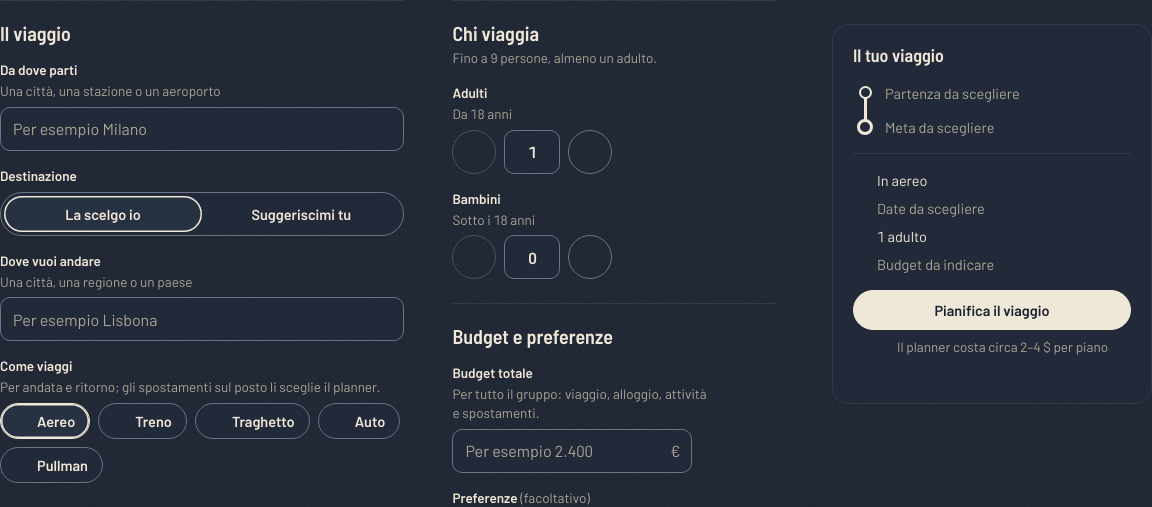
RequestForm › asks each child's age and keeps the count within nine travellers
The image size is (1152, 507).
Step 1. Click the button named "Aggiungi un bambino" → (590, 258), box x1=568 y1=236 x2=612 y2=280
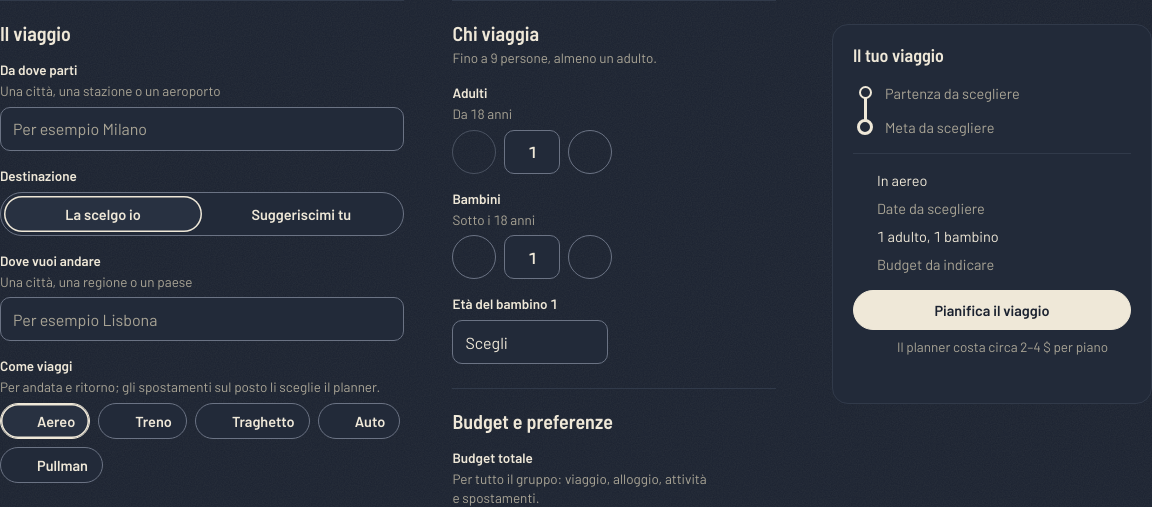
Step 2. Click the button named "Aggiungi un bambino" → (590, 258), box x1=568 y1=236 x2=612 y2=280
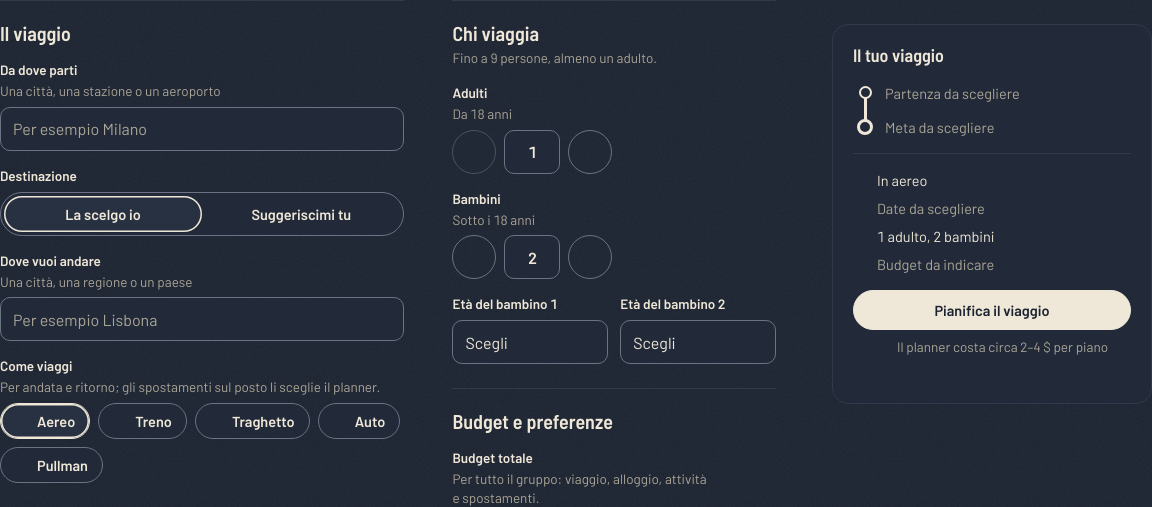
Check: the dropdown labelled "Età del bambino 2" is shown, box x1=620 y1=320 x2=776 y2=364
Step 3. Replace the text in the number field labelled "Adulti" with "12" → (532, 152), box x1=504 y1=130 x2=560 y2=174
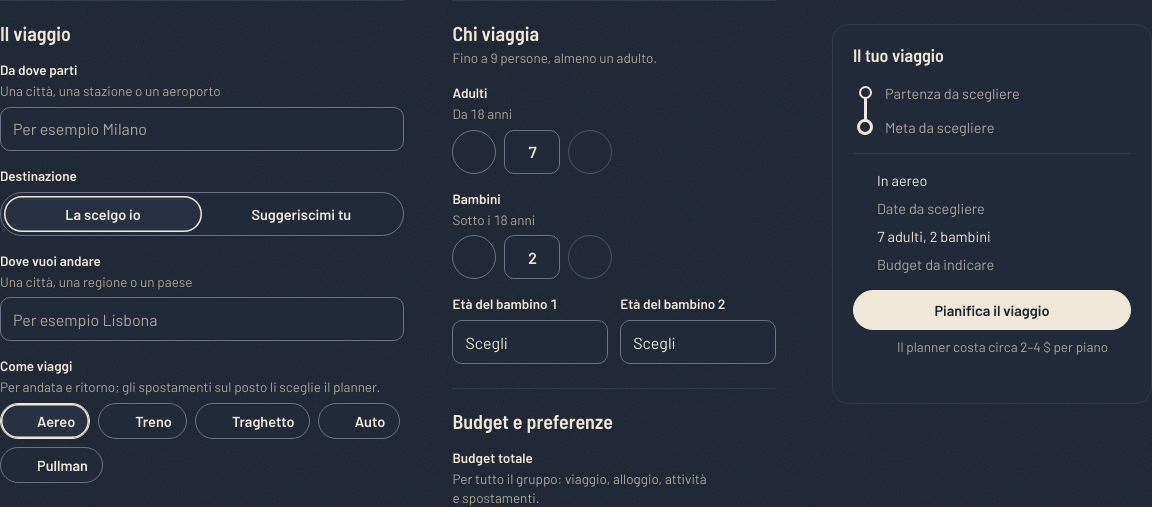
Check: the number field labelled "Adulti" holds "7", box x1=504 y1=130 x2=560 y2=174
Check: the button named "Aggiungi un bambino" is disabled, box x1=568 y1=236 x2=612 y2=280
Step 4. Click the button "Pianifica il viaggio" → (992, 310), box x1=853 y1=290 x2=1131 y2=330
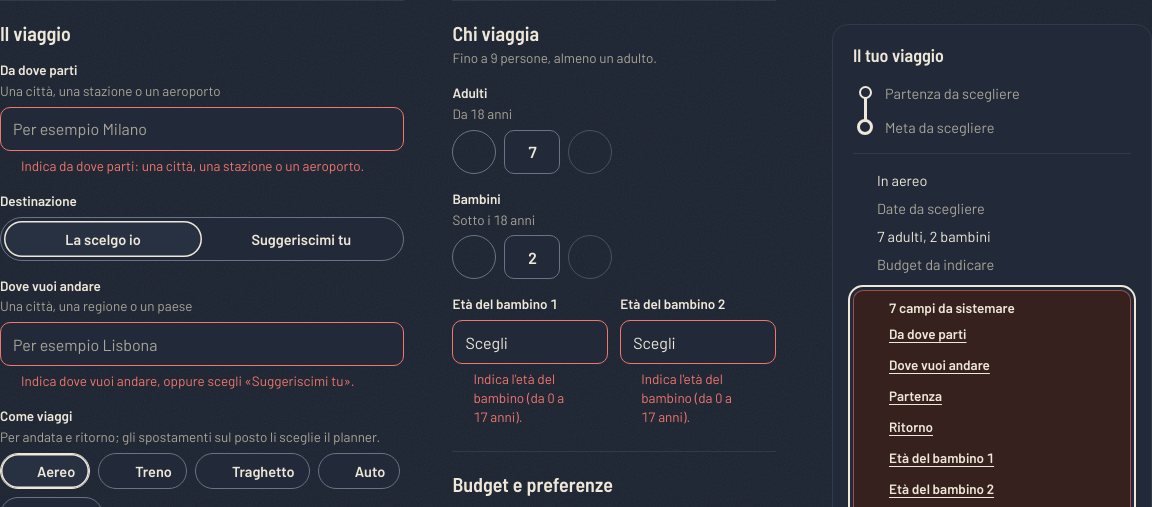
Check: the element with id "field-travelers-7-age-error" reads "Indica l'età del bambino (da 0 a 17 anni).", box x1=473 y1=370 x2=564 y2=425
